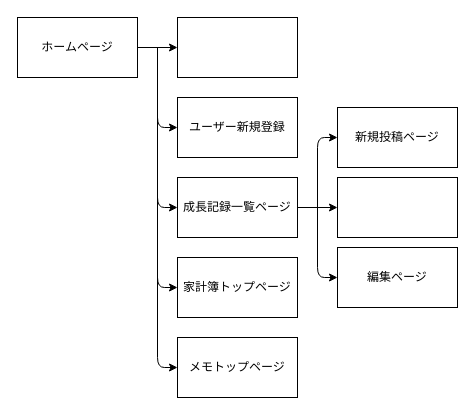
This 475x415 diagram has some shape labels left out. The shapes that lost their labels are listed below. From the top down, each one's centre as x and y in pixels, then its label:
the point at 237,47: ユーザーログイン
the point at 397,207: 詳細ページ
